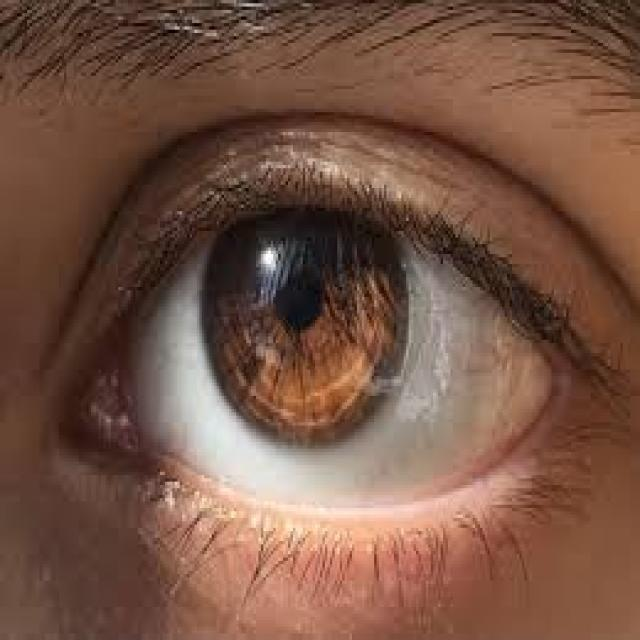Normal: (36, 102, 622, 598)
